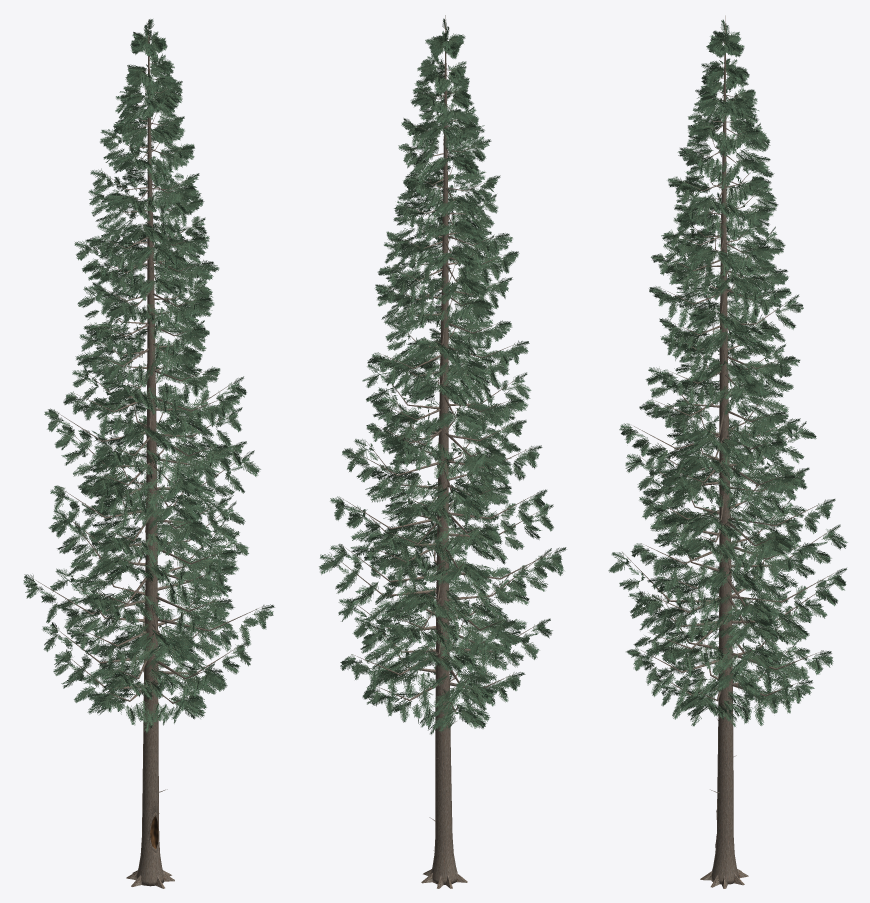
File: SS_Defect_Cavity_Mature_02_LOD1.fbx
The picture shows the model from 3 angles, left to right: view 1: azimuth 30°, elevation 25°; view 2: azimuth 150°, elevation 25°; view 3: azimuth 270°, elevation 25°; orthographic projection.
Parts seen in each view (by area): view 1: SS_Defect_Cavity_Mature_02_LOD1_Foliage, SS_Defect_Cavity_Mature_02_LOD1_Trunk, SS_Defect_Cavity_Mature_02_LOD1_Branches; view 2: SS_Defect_Cavity_Mature_02_LOD1_Foliage, SS_Defect_Cavity_Mature_02_LOD1_Trunk, SS_Defect_Cavity_Mature_02_LOD1_Branches; view 3: SS_Defect_Cavity_Mature_02_LOD1_Foliage, SS_Defect_Cavity_Mature_02_LOD1_Trunk, SS_Defect_Cavity_Mature_02_LOD1_Branches.
Part boxes in pixels (x1,y1,x2,y2): SS_Defect_Cavity_Mature_02_LOD1_Foliage: (23,19,274,733); SS_Defect_Cavity_Mature_02_LOD1_Trunk: (126,19,174,888); SS_Defect_Cavity_Mature_02_LOD1_Branches: (36,38,264,813); SS_Defect_Cavity_Mature_02_LOD1_Foliage: (319,18,566,734); SS_Defect_Cavity_Mature_02_LOD1_Trunk: (421,15,467,888); SS_Defect_Cavity_Mature_02_LOD1_Branches: (329,39,557,850); SS_Defect_Cavity_Mature_02_LOD1_Foliage: (608,19,847,726); SS_Defect_Cavity_Mature_02_LOD1_Trunk: (700,15,748,888); SS_Defect_Cavity_Mature_02_LOD1_Branches: (623,41,837,824).
Bounding box in the file's own units: 701 × 2600 × 692.
3 materials, 3 textured.
